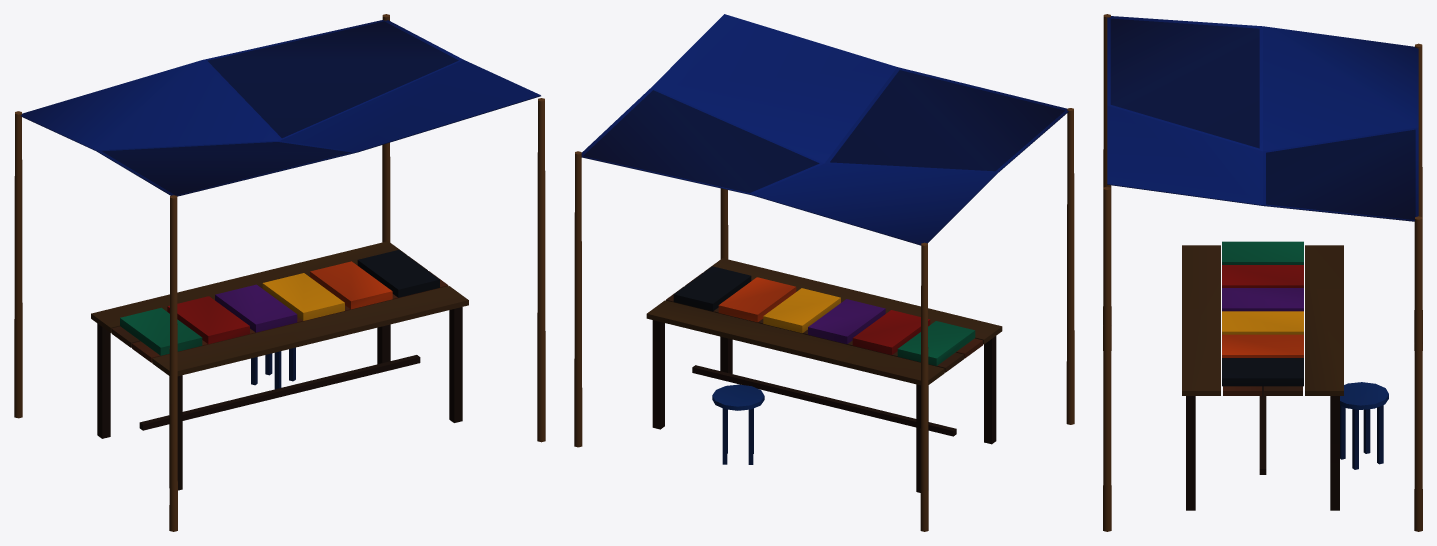
The model's file is mk_stall_tarp_lod1.glb.
3 renders of one model, left to right at view 1: azimuth 30°, elevation 25°; view 2: azimuth 150°, elevation 25°; view 3: azimuth 270°, elevation 25°, orthographic. The views are drawn at different scales.
Visible parts, largest first — view 1: mk_stall_tarp_lod1; view 2: mk_stall_tarp_lod1; view 3: mk_stall_tarp_lod1.
Boxes of the visible parts, x1,y1,x2,y2 form: mk_stall_tarp_lod1: (14,14,545,531); mk_stall_tarp_lod1: (574,14,1074,531); mk_stall_tarp_lod1: (1103,14,1422,531).
Size of the model in its own units: 2.66 by 2.33 by 1.95.
